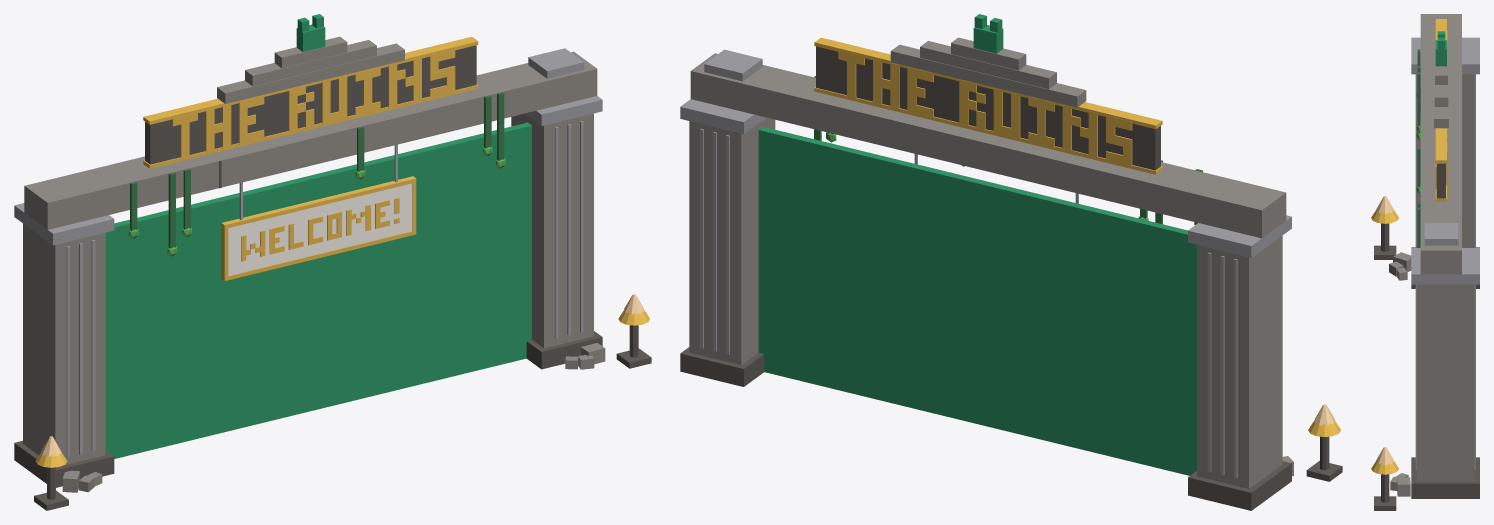
File: CatCafe_Ruins_Gate.glb
3 views of the same model, side by side, from view 1: azimuth 30°, elevation 25°; view 2: azimuth 150°, elevation 25°; view 3: azimuth 270°, elevation 25° (orthographic). The views are drawn at different scales.
Parts seen in each view (by area): view 1: CatCafe_Ruins_Gate, CatCafe_Ruins_Gate_Bars, CatCafe_Ruins_Gate_SignBoard; view 2: CatCafe_Ruins_Gate_Bars, CatCafe_Ruins_Gate; view 3: CatCafe_Ruins_Gate, CatCafe_Ruins_Gate_Lamp_Bulb.
Boxes of the visible parts, x1,y1,x2,y2 form: CatCafe_Ruins_Gate: (14,14,651,510); CatCafe_Ruins_Gate_Bars: (105,122,531,458); CatCafe_Ruins_Gate_SignBoard: (228,183,412,275); CatCafe_Ruins_Gate_Bars: (758,127,1196,475); CatCafe_Ruins_Gate: (680,14,1342,510); CatCafe_Ruins_Gate: (1371,14,1479,510); CatCafe_Ruins_Gate_Lamp_Bulb: (1376,196,1394,464).
Bounding box in the file's own units: 33.1 × 20.25 × 5.8.
Materials: 1 (1 with a texture image).
